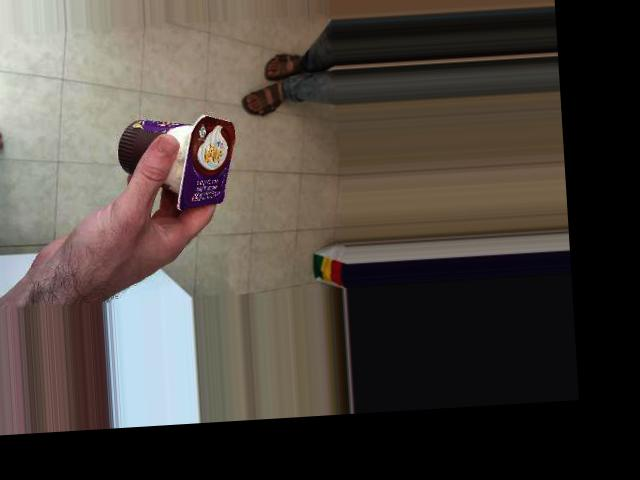milky: (152, 78, 249, 200)
